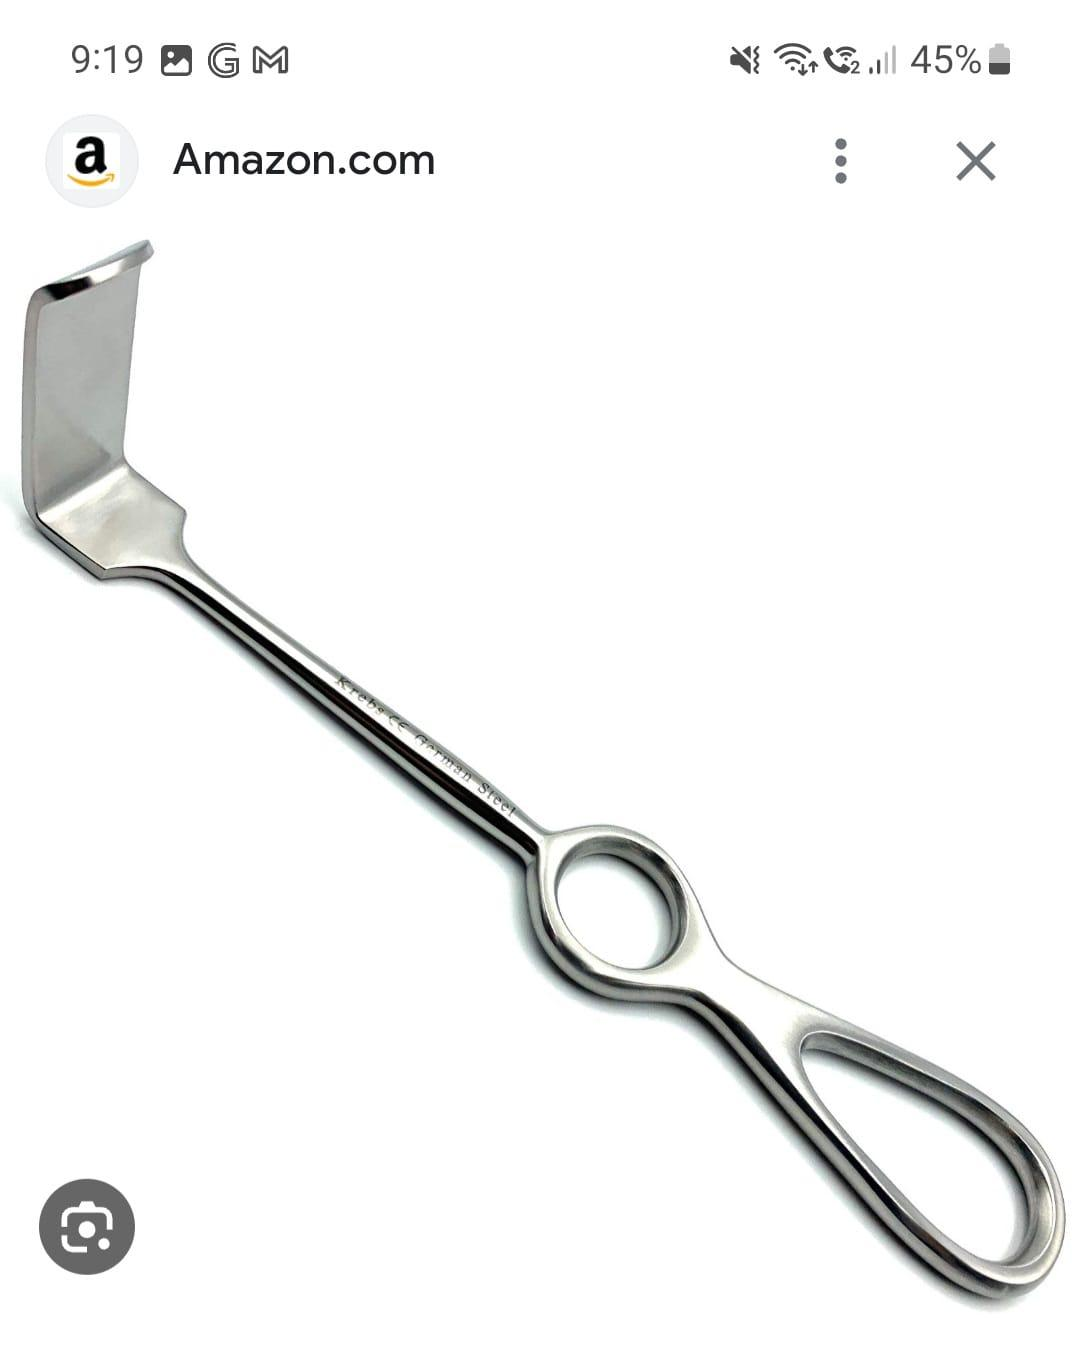Langenbach Retractor: (12, 238, 1068, 1302)
